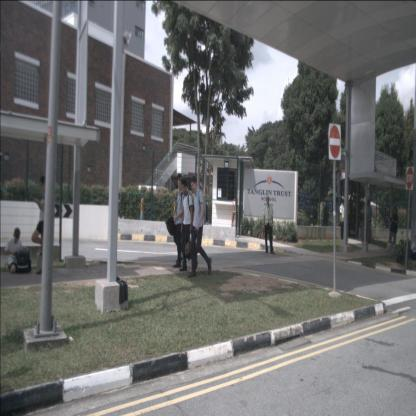human-pedestrian-adult: (188, 175, 212, 278), (166, 176, 189, 268), (179, 178, 194, 272), (362, 199, 372, 245), (388, 207, 398, 250), (407, 235, 416, 267)
